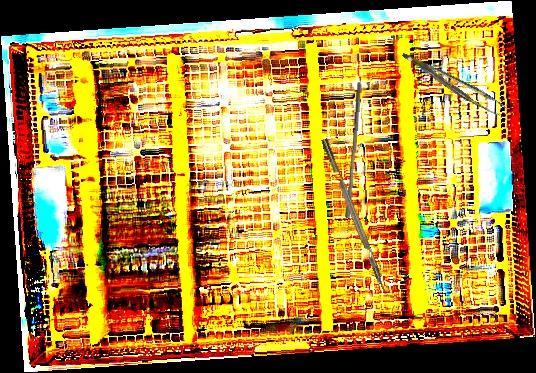Chopper: (321, 135, 398, 304)
Pusher: (344, 81, 363, 219)
Tissue Forceps: (401, 41, 507, 122)
